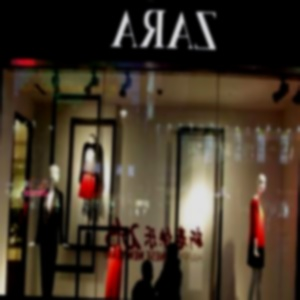zara: (168, 0, 275, 3)
